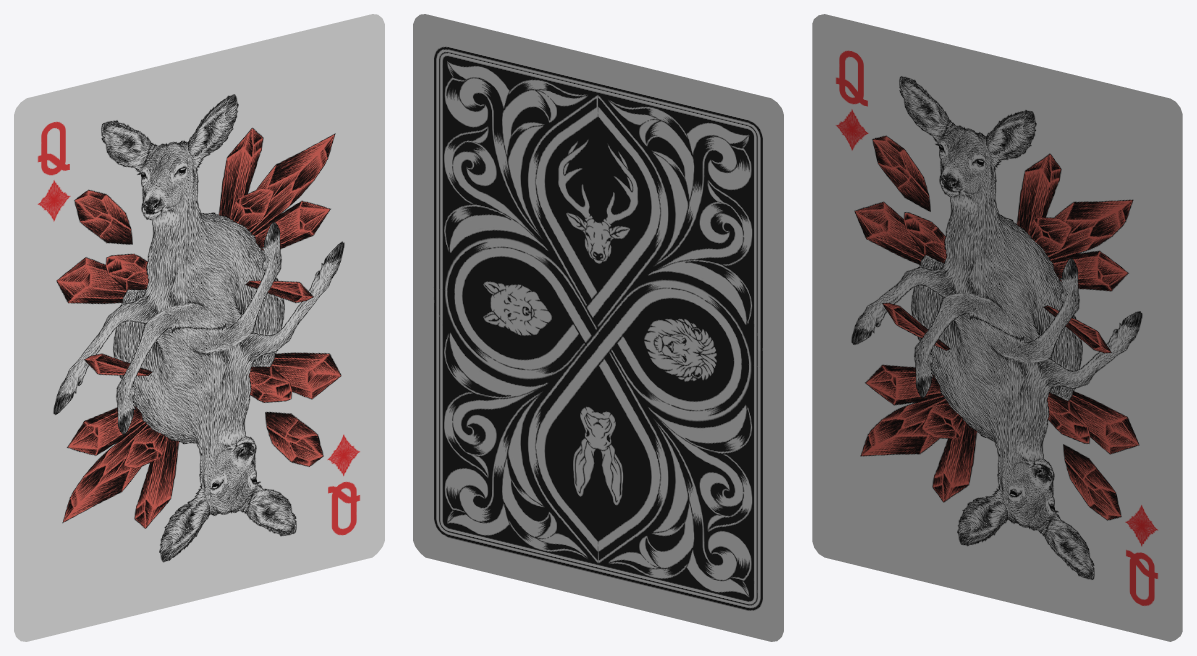
3 views of the same model, side by side, from view 1: azimuth 30°, elevation 25°; view 2: azimuth 150°, elevation 25°; view 3: azimuth 330°, elevation 25° (orthographic).
Visible parts, largest first — view 1: Node; view 2: Node; view 3: Node.
Boxes of the visible parts, <box> form: Node: <box>14,14,384,641</box>; Node: <box>413,14,783,641</box>; Node: <box>812,14,1182,641</box>.
Size of the model in its own units: 1.5 by 2.1 by 7.08e-05.
Materials: 1 (1 with a texture image).
